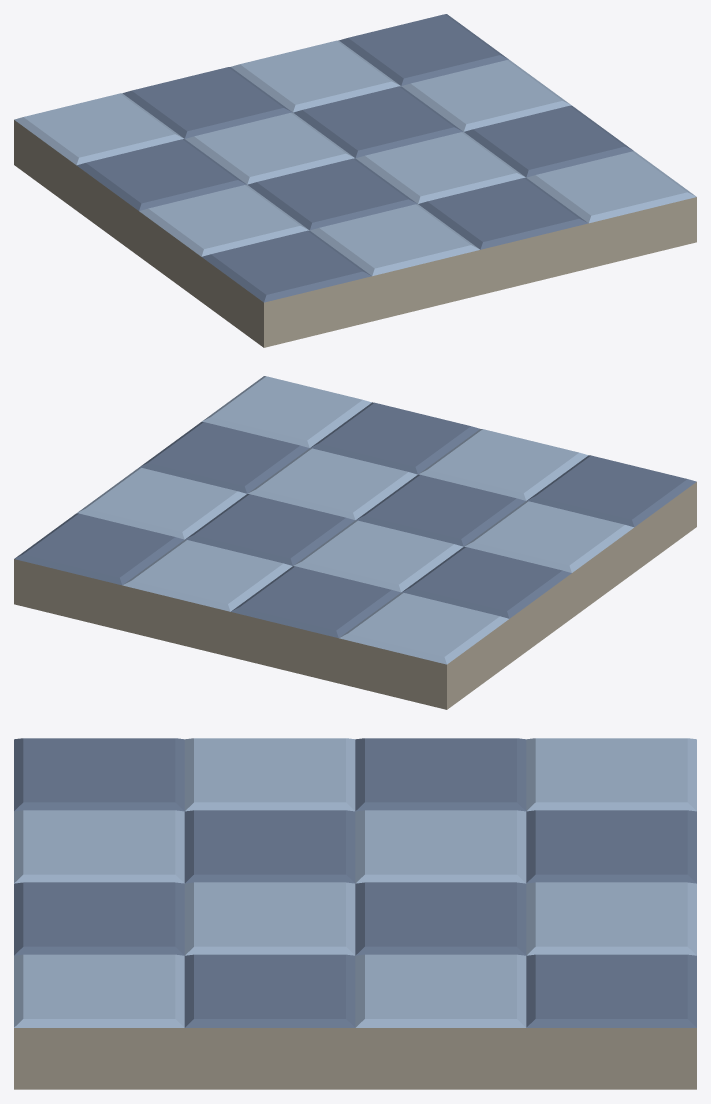
Rendered from Mesh_GroundCeramic_N2.fbx.
3 views of the same model, one above another, from view 1: azimuth 30°, elevation 25°; view 2: azimuth 150°, elevation 25°; view 3: azimuth 270°, elevation 25° (orthographic). The views are drawn at different scales.
Visible parts, largest first — view 1: Mesh_GroundCeramic_N2; view 2: Mesh_GroundCeramic_N2; view 3: Mesh_GroundCeramic_N2.
Part boxes in pixels (x1=…): Mesh_GroundCeramic_N2: x1=14, y1=14, x2=696, y2=347; Mesh_GroundCeramic_N2: x1=14, y1=376, x2=696, y2=709; Mesh_GroundCeramic_N2: x1=14, y1=738, x2=696, y2=1089.
Size of the model in its own units: 1 by 0.1082 by 1.
